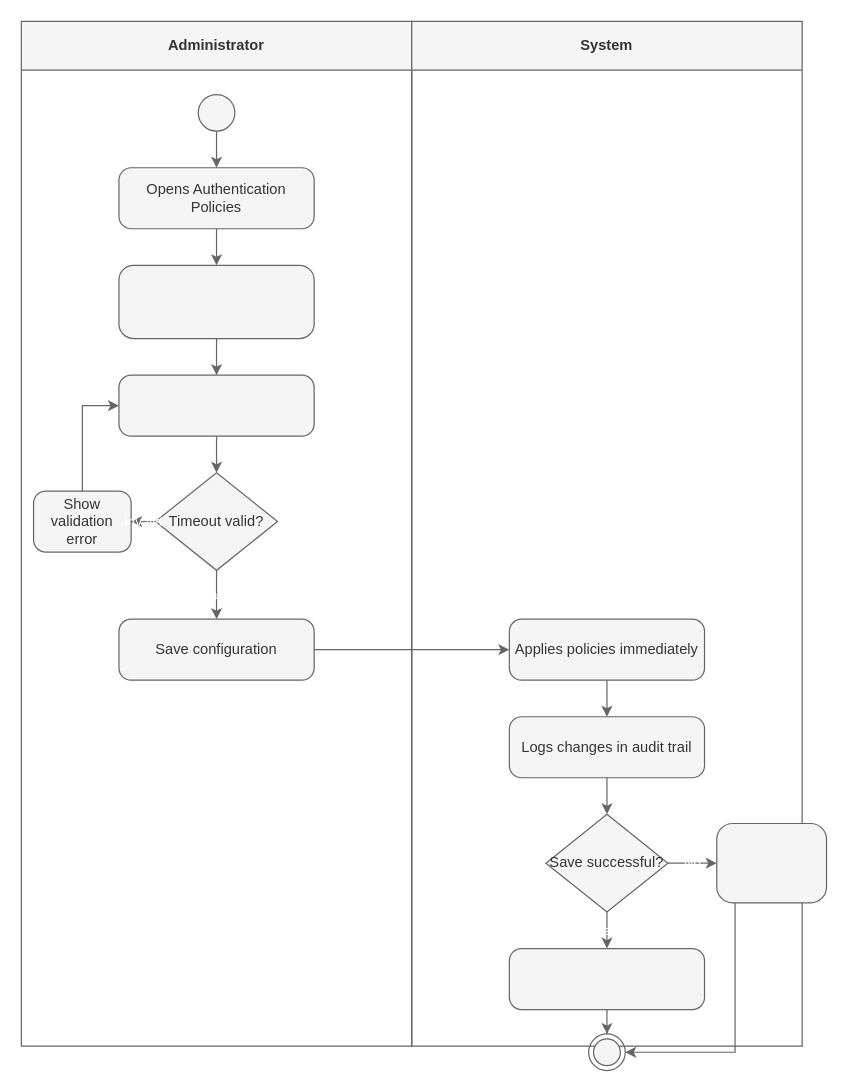
Some shapes in this 848 by 1092 pixel diagram are drawn without their labels. Here are the shapes that lost their labels. From the top down, the centre of each, then its label:
At [216,301]: "Sets password rules: min length, char types, age".
At [216,405]: "Sets session timeout".
At [771,862]: "Restore previous settings and show error".
At [606,978]: "Configuration active".
